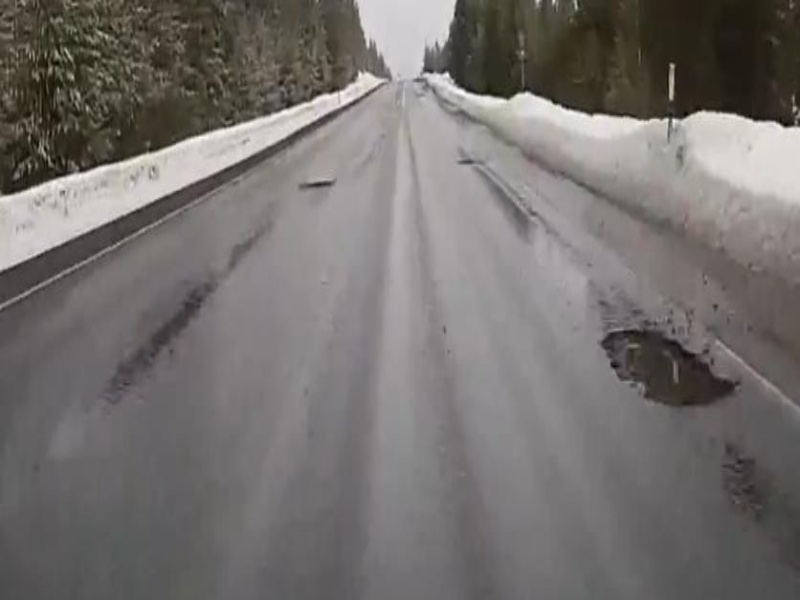pothole: (597, 323, 737, 414)
